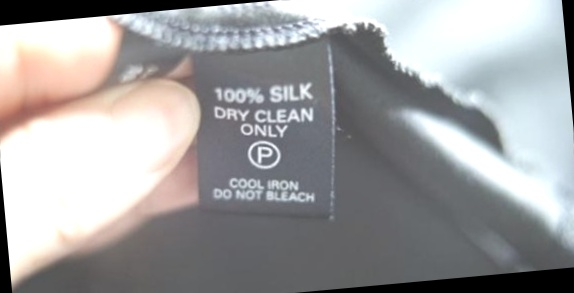dry_clean_any_solvent_except_trichloroethylene: (246, 136, 284, 171)
